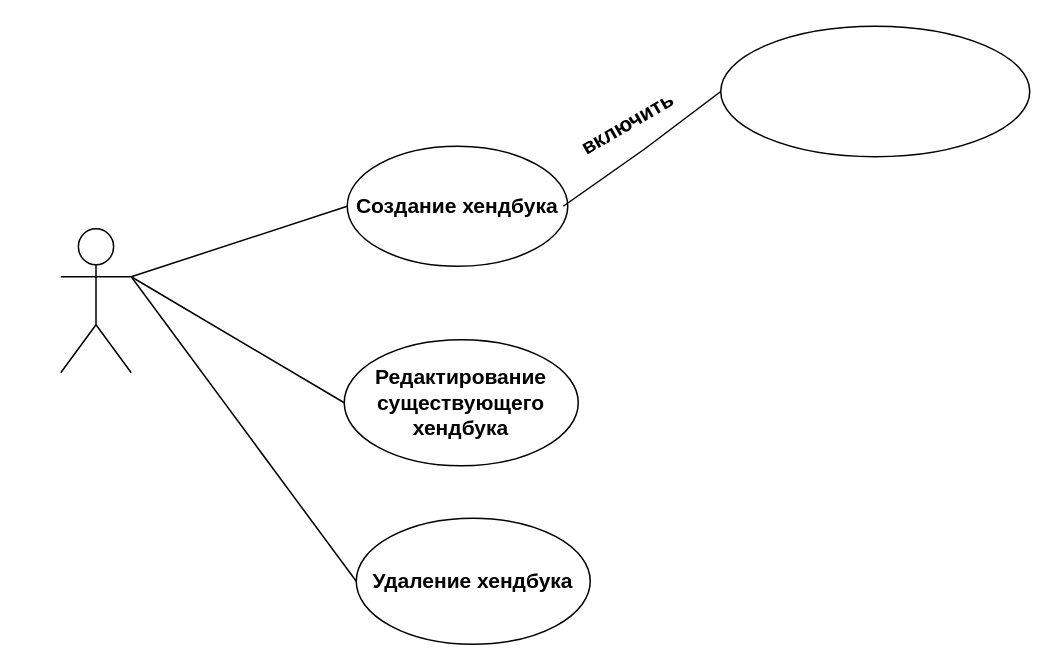
Some shapes in this 1056 by 671 pixel diagram are drawn without their labels. Here are the shapes that lost their labels. From the top down, the centre of each, then its label:
point (874, 91): Добавление дополнительных разделов и информации
point (95, 300): Администратор
